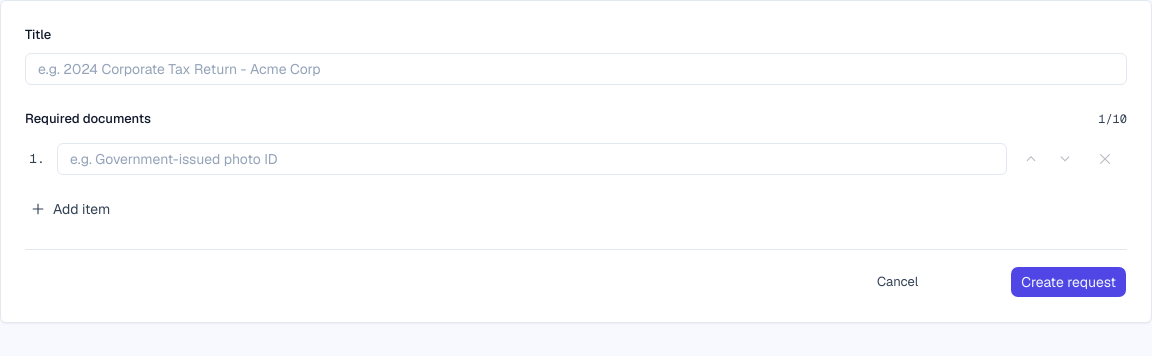
Test: NewRequestForm › preserves input and maps API field errors
In the field labelled "Title": (576, 69) [25,53,1127,85], type "Tax return"
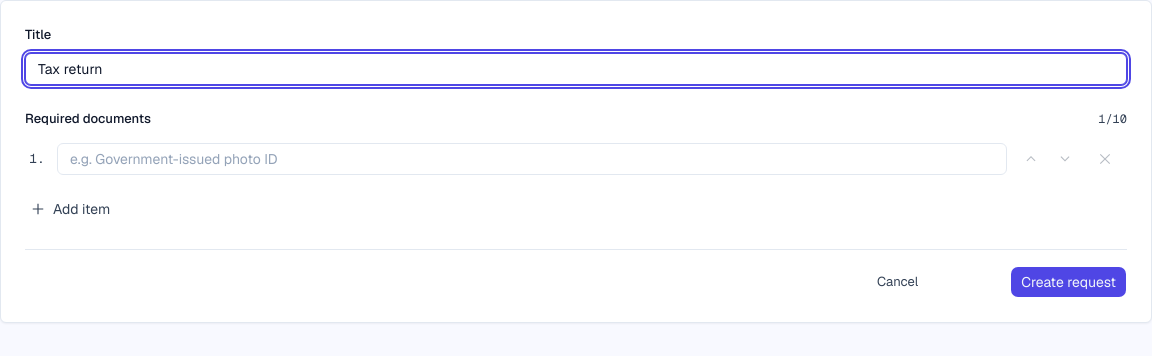
In the field named "Document 1": (532, 159) [57,143,1007,175], type "W-2"
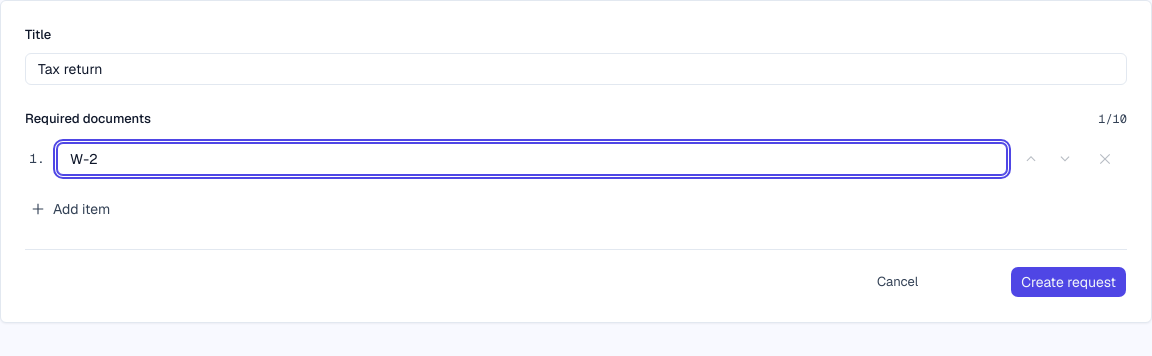
Click the button "Create request": (1069, 282) [1010,266,1127,298]
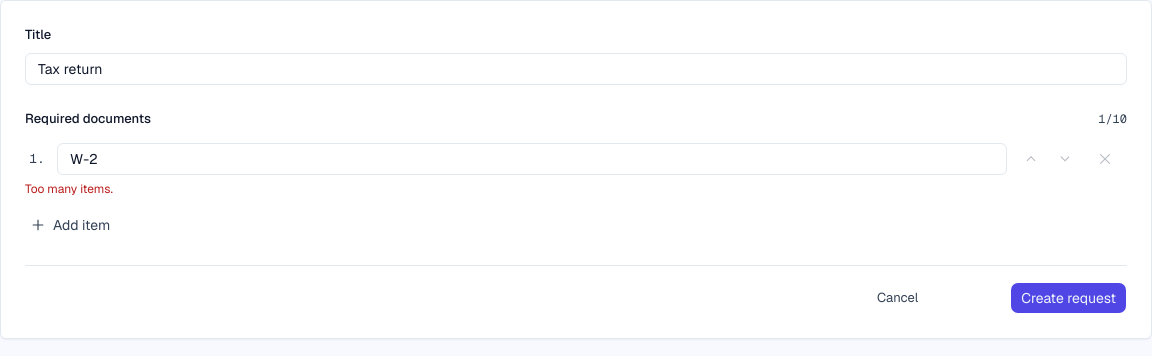
Result: the text "Too many items." is shown at [25,181,113,197]
